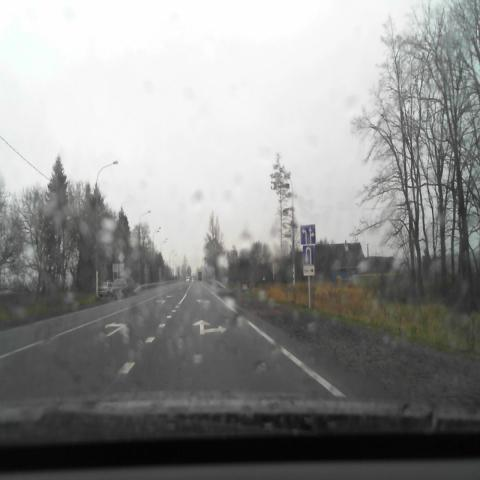6_3_1: (303, 246, 314, 266)
